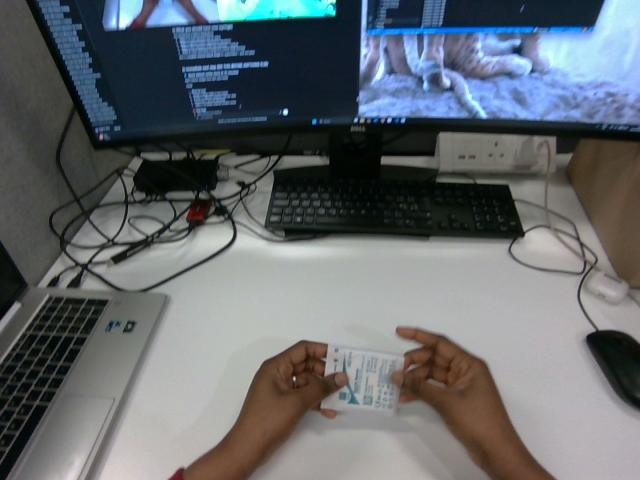gauze: (321, 345, 403, 414)
